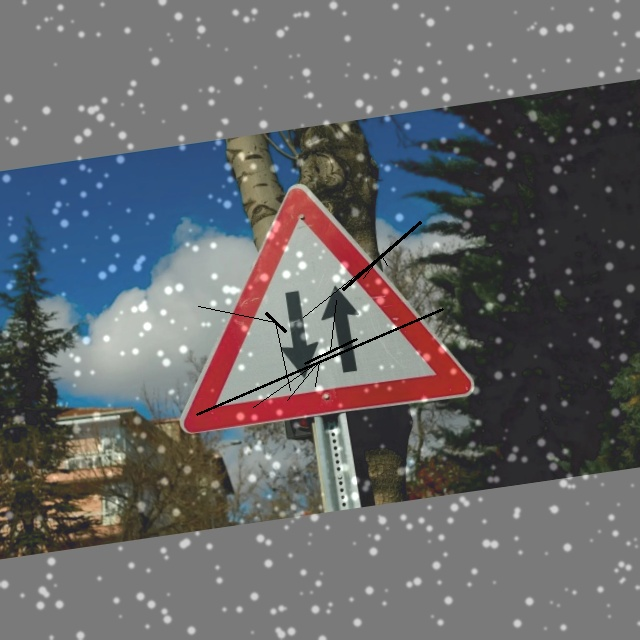Mandatory_Two_Way_Traffic: (150, 164, 477, 441)
